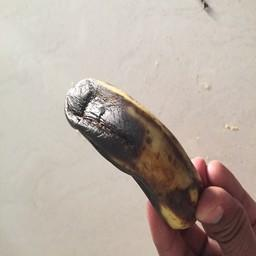Bad_banana: (66, 77, 197, 230)
